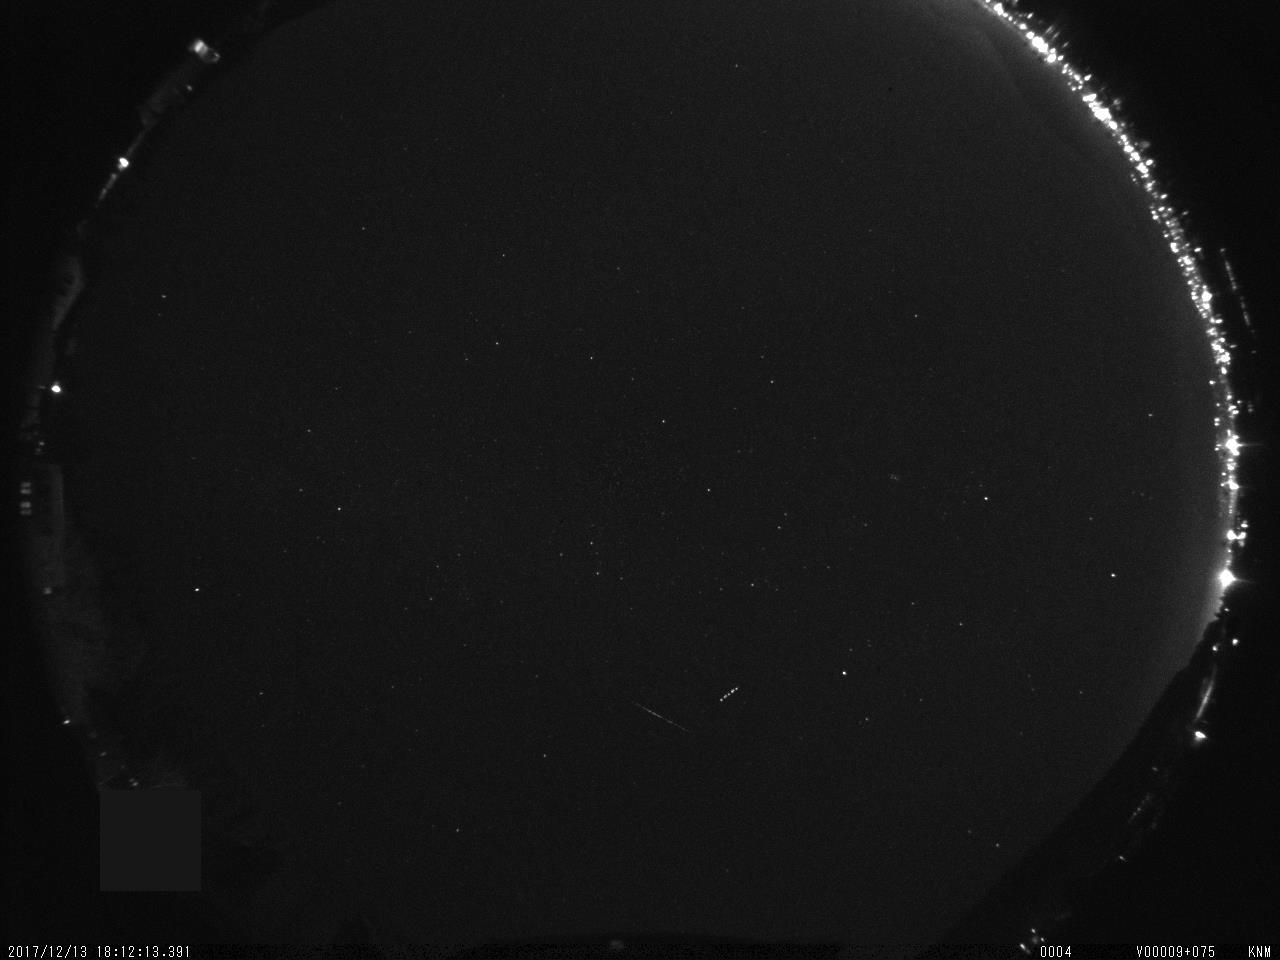meteor: (620, 689, 696, 746)
satelite: (716, 680, 744, 710)
